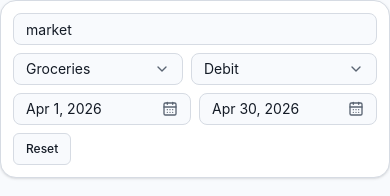
Test case: DashboardFilterPanel › keeps every filter accessible in the compact toolbar and resets them together
Expected: the search field named "Search" holds "market", [13,13,377,45]
Expected: the dropdown named "Category" reads "Groceries", [13,53,183,85]
Click the button "Reset" at {"x": 42, "y": 149}, box [13,133,71,165]
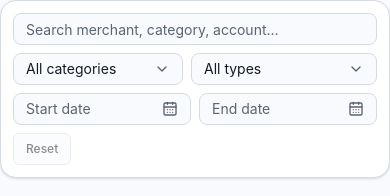
Result: the search field labelled "Search" is empty at [13,13,377,45]
Result: the dropdown named "Category" reads "All categories" at [13,53,183,85]
Result: the dropdown named "Transaction type" reads "All types" at [191,53,377,85]
